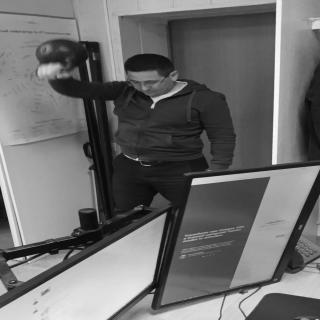kettlebell: (33, 40, 90, 75)
